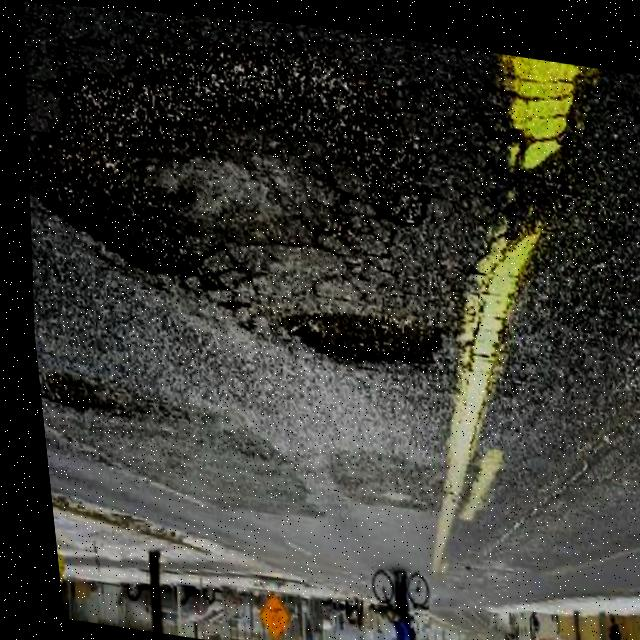Pothole: (3, 1, 454, 328), (267, 295, 446, 376), (30, 367, 135, 423)
